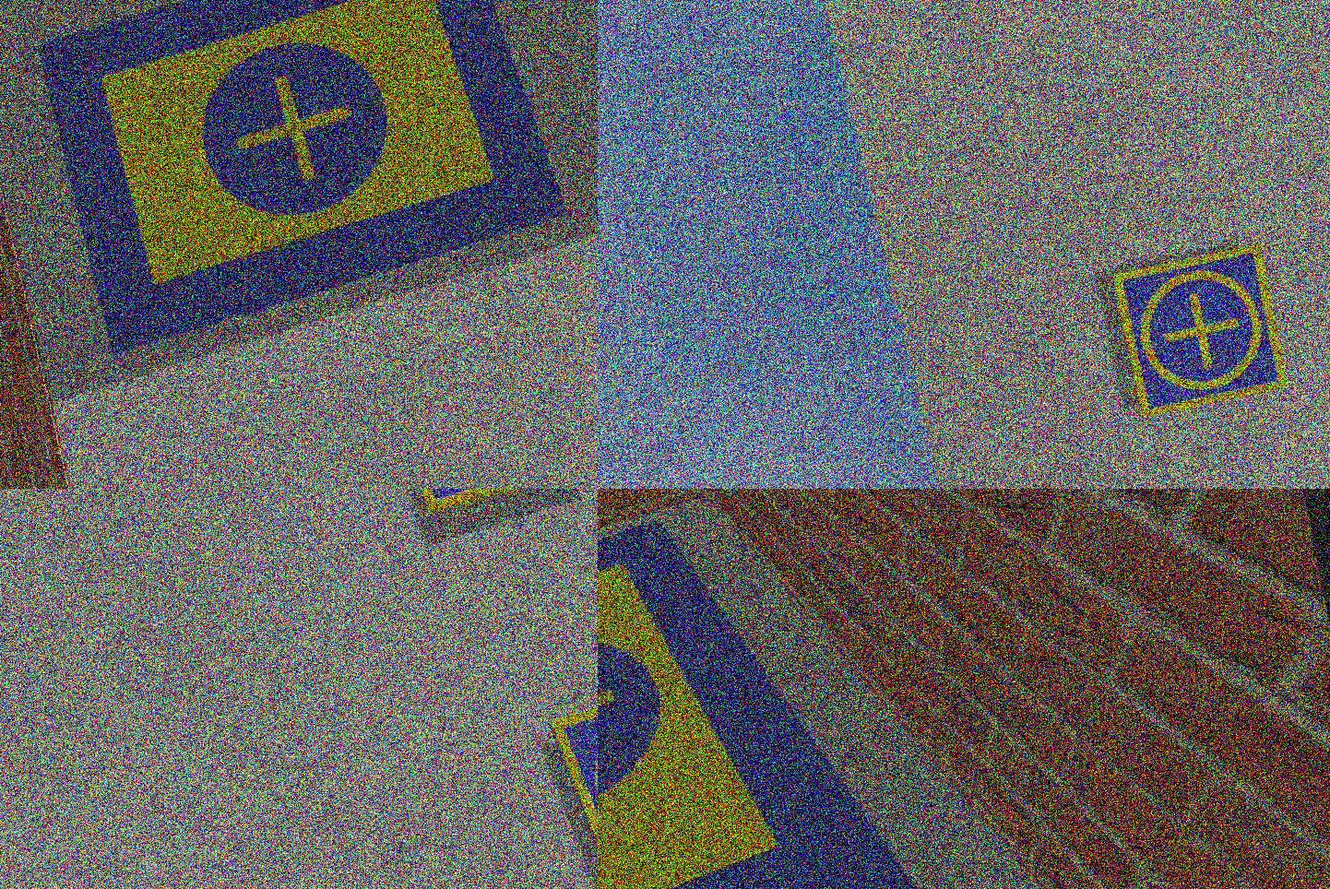large_base: (26, 1, 583, 365), (598, 490, 944, 889)
small_base: (1111, 242, 1289, 421), (542, 660, 598, 889), (390, 490, 598, 516)
